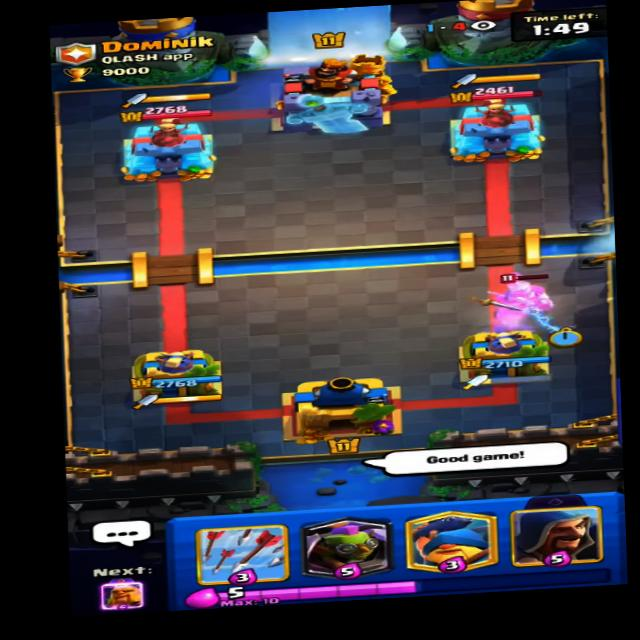guardian: (490, 269, 557, 315)
